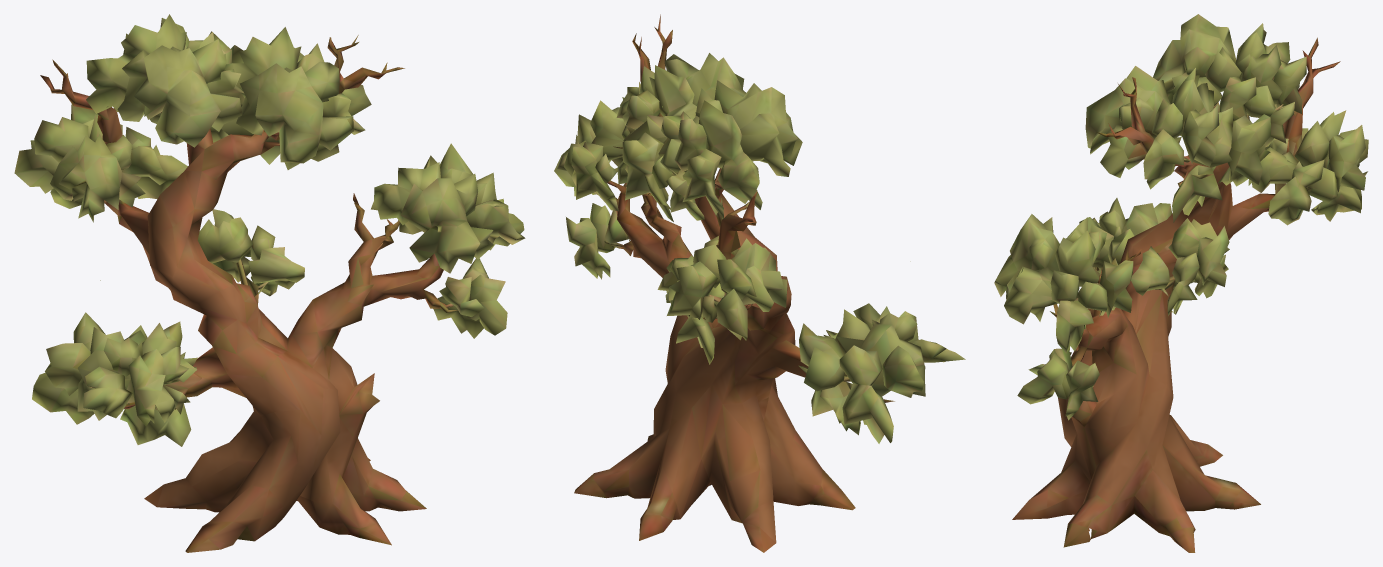
Rendered from small-tree-2.glb.
The picture shows the model from 3 angles, left to right: view 1: azimuth 30°, elevation 25°; view 2: azimuth 150°, elevation 25°; view 3: azimuth 270°, elevation 25°; orthographic projection. The views are drawn at different scales.
Visible parts, largest first — view 1: small-tree-2; view 2: small-tree-2; view 3: small-tree-2.
Boxes of the visible parts, <box> form: small-tree-2: <box>14,14,525,552</box>; small-tree-2: <box>554,14,965,552</box>; small-tree-2: <box>994,14,1368,552</box>.
Bounding box in the file's own units: 0.9556 × 0.9995 × 0.7554.
1 material, 1 textured.
